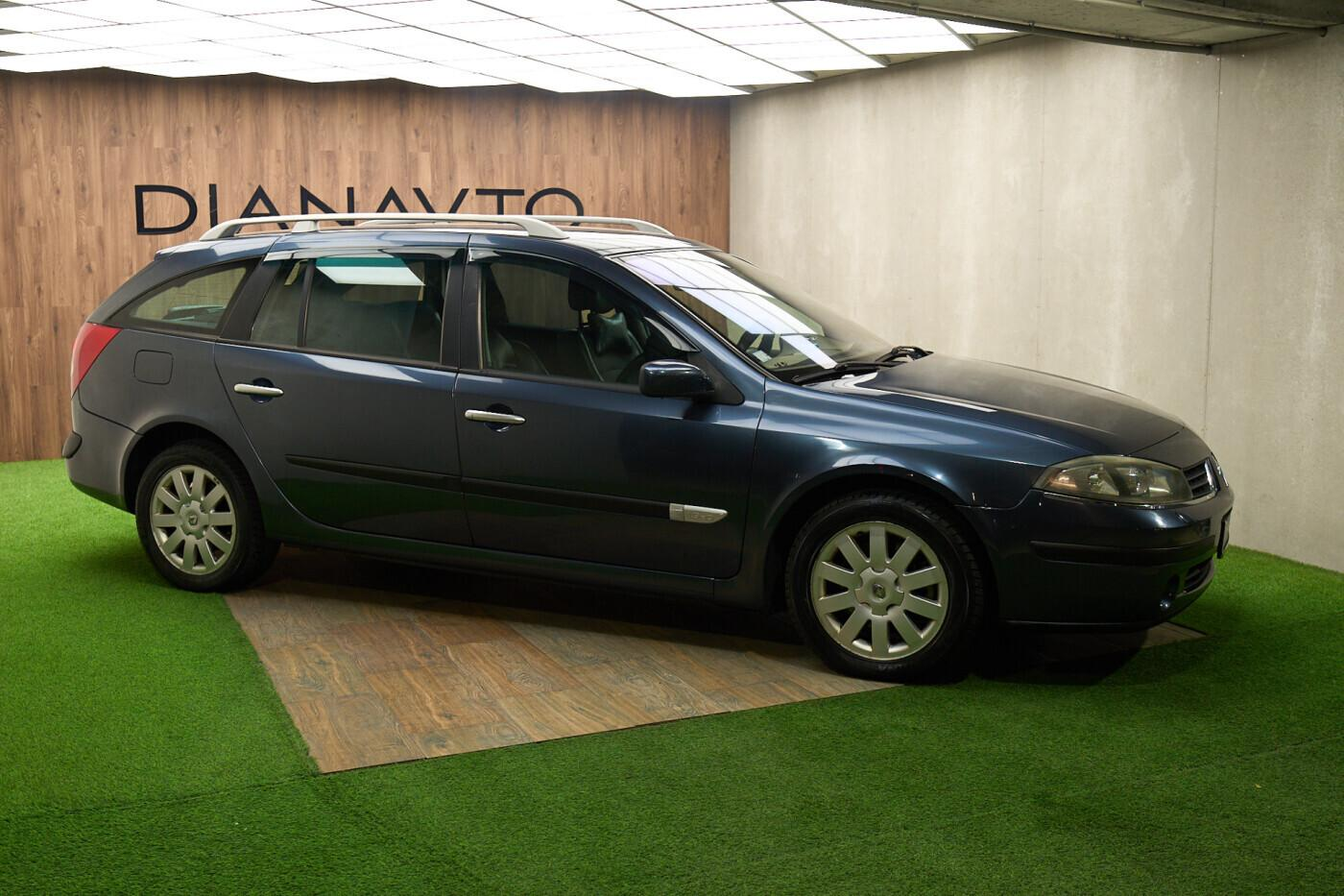Laguna_2005-2007: (54, 208, 1232, 679)
